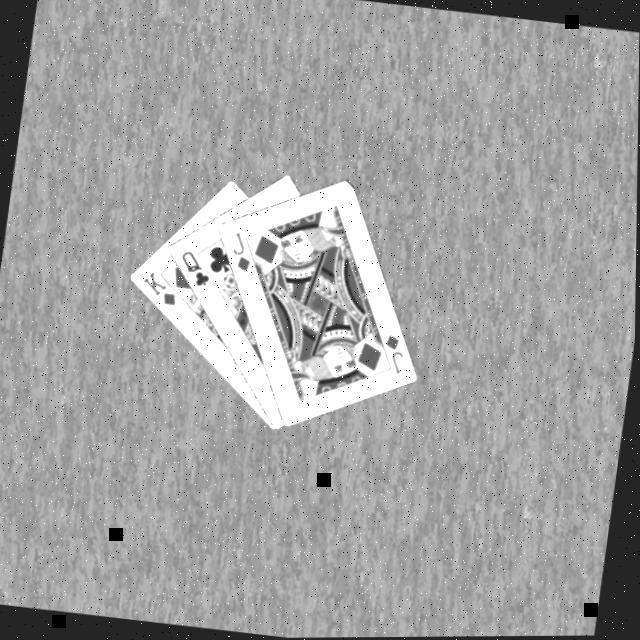JD: (380, 332, 412, 381), (228, 230, 260, 277)
KD: (138, 269, 185, 312)
QC: (176, 248, 218, 293)
